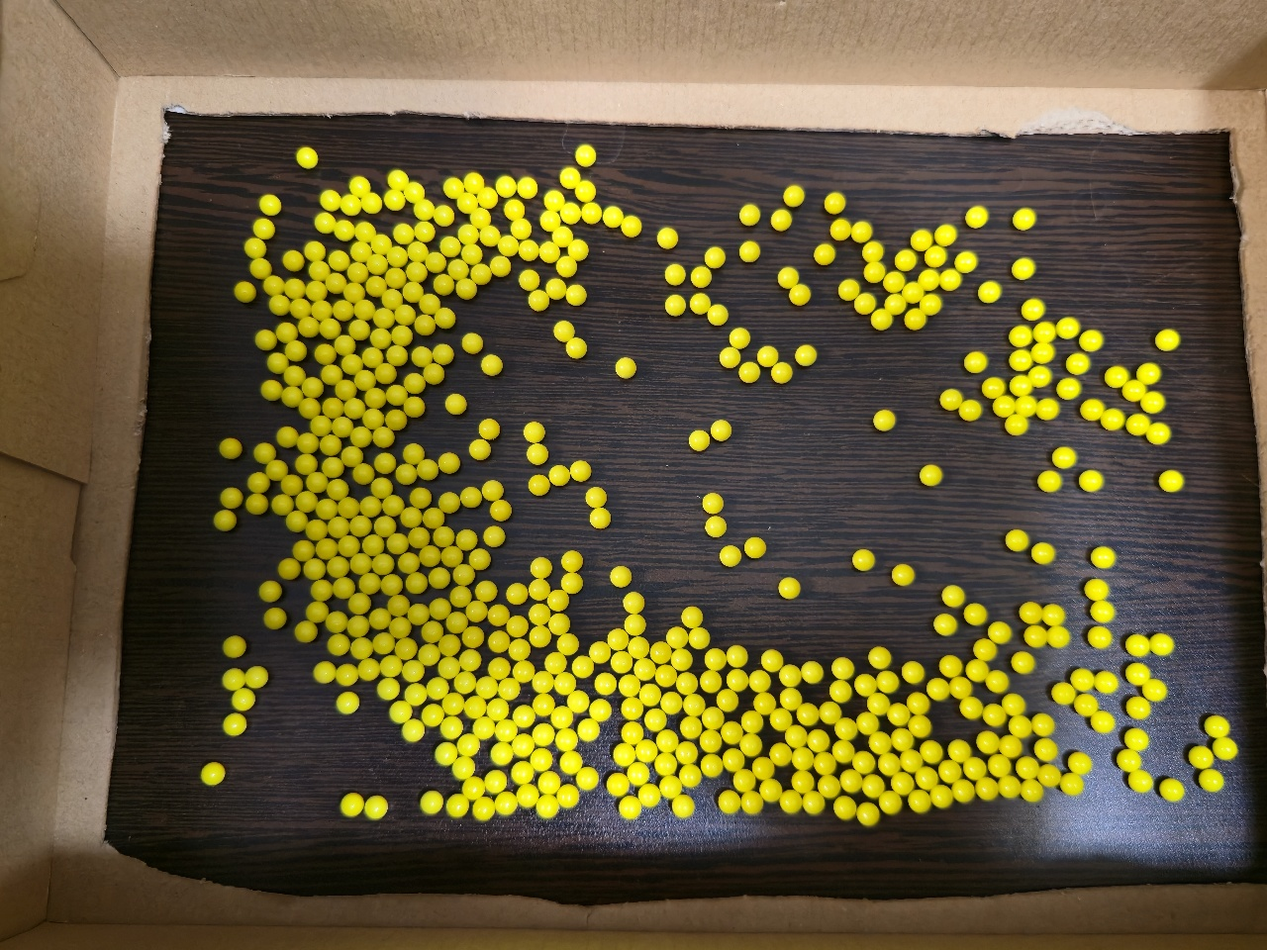yellow_bead: (619, 360, 628, 373), (405, 729, 417, 738), (692, 433, 701, 441), (722, 351, 731, 359), (613, 570, 622, 577), (714, 423, 723, 430), (467, 335, 474, 343), (592, 517, 602, 522), (668, 301, 677, 306), (322, 672, 326, 681), (579, 151, 587, 155), (531, 449, 537, 454), (668, 268, 673, 274), (626, 602, 635, 605), (488, 360, 493, 365), (530, 428, 536, 432), (559, 327, 565, 331), (397, 711, 402, 715), (385, 688, 390, 692), (764, 351, 769, 355), (680, 806, 686, 809), (712, 524, 718, 527), (572, 291, 578, 294), (745, 248, 751, 251), (345, 702, 349, 706), (508, 689, 512, 693), (411, 669, 415, 673), (728, 554, 732, 558), (646, 797, 651, 800), (585, 729, 590, 732), (494, 709, 499, 712), (667, 702, 672, 705), (575, 701, 580, 704), (467, 658, 472, 661), (536, 565, 541, 568), (491, 534, 496, 537), (592, 495, 597, 498), (555, 473, 560, 476), (715, 312, 720, 315), (610, 214, 615, 217), (584, 779, 590, 781), (519, 745, 525, 747), (538, 682, 544, 684), (463, 681, 467, 684), (254, 676, 258, 679), (632, 622, 636, 625), (513, 591, 517, 594), (483, 589, 487, 592), (572, 345, 578, 347), (735, 334, 739, 337), (553, 285, 557, 288), (455, 266, 459, 269), (712, 255, 716, 258), (465, 231, 469, 234), (441, 212, 445, 215), (546, 783, 551, 785), (540, 733, 545, 735), (696, 636, 701, 638), (545, 249, 550, 251), (545, 217, 550, 219), (974, 215, 979, 217), (746, 213, 751, 215), (566, 175, 571, 177), (432, 802, 435, 805), (710, 501, 713, 504), (453, 401, 456, 404), (443, 315, 446, 318), (415, 268, 418, 271), (498, 263, 501, 266), (500, 753, 504, 755), (563, 739, 567, 741), (481, 727, 485, 729), (449, 727, 453, 729), (604, 683, 608, 685), (447, 666, 451, 668), (678, 658, 682, 660), (461, 572, 465, 574), (477, 557, 481, 559), (489, 488, 493, 490), (477, 448, 481, 450), (532, 298, 536, 300), (797, 292, 801, 294), (463, 286, 467, 288), (785, 275, 789, 277), (478, 271, 482, 273), (575, 246, 579, 248), (448, 243, 452, 245), (664, 236, 668, 238), (487, 233, 491, 235), (518, 226, 522, 228), (525, 185, 529, 187), (521, 773, 524, 775), (462, 768, 465, 770), (505, 730, 508, 732), (414, 694, 417, 696), (598, 651, 601, 653), (455, 620, 458, 622), (536, 613, 539, 615), (554, 599, 557, 601), (458, 595, 461, 597), (536, 588, 539, 590), (413, 380, 416, 382), (973, 361, 976, 363), (421, 353, 424, 355), (441, 352, 444, 354), (395, 351, 397, 354), (357, 327, 360, 329), (411, 289, 414, 291), (470, 252, 473, 254), (423, 207, 426, 209), (396, 177, 399, 179), (643, 751, 648, 752), (652, 719, 657, 720), (561, 683, 566, 684), (562, 264, 567, 265), (525, 248, 530, 249), (495, 782, 497, 784), (468, 744, 470, 746), (243, 700, 245, 702), (437, 688, 439, 690), (626, 685, 628, 687), (808, 671, 810, 673), (641, 669, 645, 670), (580, 666, 584, 667), (516, 649, 520, 650), (673, 636, 675, 638), (536, 636, 540, 637), (689, 617, 693, 618), (313, 567, 315, 569), (405, 472, 407, 474), (341, 425, 343, 427), (353, 406, 355, 408), (343, 342, 345, 344), (699, 301, 701, 303), (526, 278, 530, 279), (435, 258, 437, 260), (416, 248, 418, 250), (559, 235, 563, 236), (402, 231, 404, 233), (324, 221, 326, 223), (779, 218, 783, 219), (566, 211, 570, 212), (329, 197, 331, 199), (306, 155, 308, 157), (520, 716, 523, 717), (597, 711, 600, 712), (484, 687, 487, 688), (464, 537, 467, 538), (575, 469, 578, 470), (624, 755, 626, 756), (621, 754, 623, 755), (685, 682, 687, 683), (620, 661, 622, 662), (428, 654, 430, 655), (439, 608, 441, 609), (951, 595, 952, 597), (408, 562, 410, 563), (469, 496, 471, 497), (332, 465, 334, 466), (364, 378, 366, 379), (433, 371, 435, 372), (803, 354, 805, 355), (806, 353, 808, 354), (423, 323, 425, 324), (1035, 309, 1037, 310), (430, 301, 431, 303), (506, 243, 508, 244), (423, 230, 425, 231), (484, 809, 485, 810), (376, 806, 377, 807), (848, 782, 849, 783), (861, 763, 862, 764), (571, 763, 572, 764), (541, 760, 542, 761), (443, 754, 444, 755), (815, 740, 816, 741), (900, 739, 901, 740), (710, 717, 711, 718), (563, 717, 564, 718), (896, 714, 897, 715), (805, 714, 806, 715), (788, 699, 789, 700), (837, 692, 838, 693), (756, 681, 757, 682), (707, 681, 708, 682), (233, 679, 234, 680), (787, 676, 788, 677), (346, 675, 347, 676), (391, 666, 392, 667), (732, 655, 733, 656), (564, 643, 565, 644), (383, 642, 384, 643), (431, 630, 432, 631), (305, 630, 306, 631), (515, 625, 516, 626), (556, 623, 557, 624), (418, 613, 419, 614), (476, 610, 477, 611), (391, 584, 392, 585), (901, 575, 902, 576), (383, 562, 384, 563), (411, 515, 412, 516), (449, 501, 450, 502), (381, 486, 382, 487), (448, 460, 449, 461), (411, 452, 412, 453), (487, 427, 488, 428), (881, 420, 882, 421), (380, 336, 381, 337), (401, 333, 402, 334), (893, 303, 894, 304), (862, 302, 863, 303), (392, 297, 393, 298), (992, 291, 993, 292), (335, 281, 336, 282), (263, 228, 264, 229), (1026, 218, 1027, 219), (479, 216, 480, 217), (269, 203, 270, 204), (395, 198, 396, 199), (413, 190, 414, 191), (358, 184, 359, 185), (828, 712, 828, 714)
